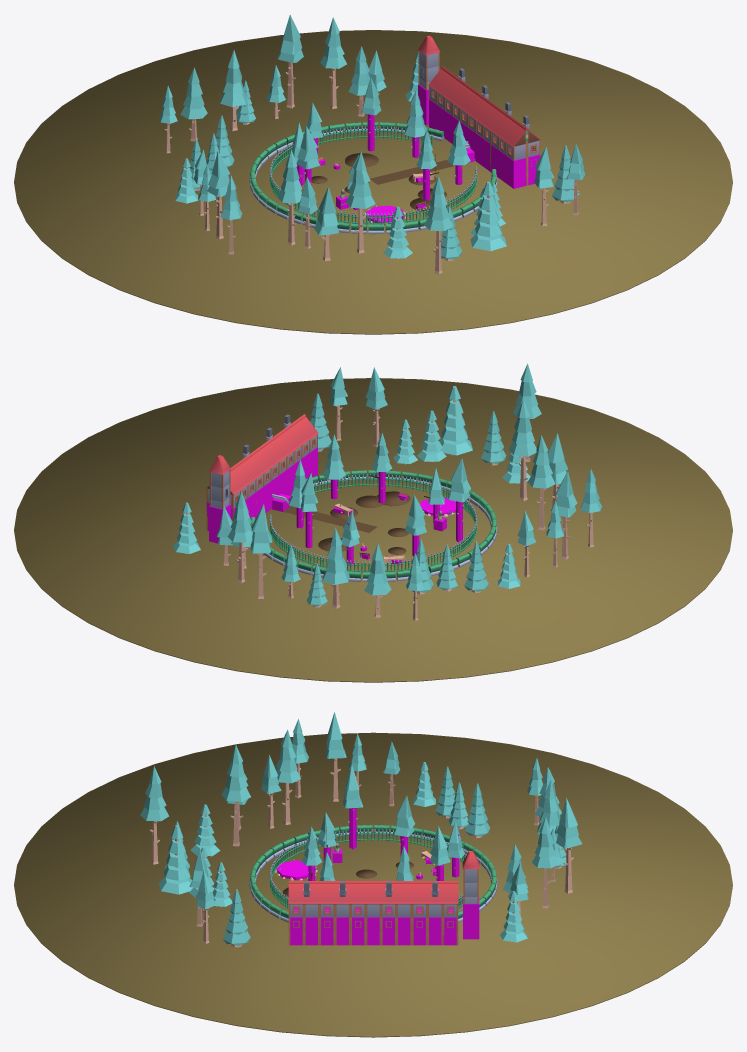
Rendered from orfanato.glb.
The picture shows the model from 3 angles, top to bottom: view 1: azimuth 30°, elevation 25°; view 2: azimuth 150°, elevation 25°; view 3: azimuth 270°, elevation 25°; orthographic projection.
Visible parts, largest first — view 1: GROUND_grass, OCC_KEN_house_manor, static_colormap_town, COL_box_manor, static_colormap_graveyard, KEN_tree_pineRoundA_240, KEN_tree_pineTallD_detailed_267, KEN_tree_pineTallD_detailed_269, KEN_tree_pineTallD_detailed_264, KEN_tree_pineTallB_detailed_250, KEN_tree_pineTallC_detailed_253, KEN_tree_pineTallD_detailed_249 (+19 smaller); view 2: GROUND_grass, OCC_KEN_house_manor, static_colormap_town, static_colormap_graveyard, COL_box_manor, KEN_tree_pineRoundA_240, KEN_tree_pineTallD_detailed_267, KEN_tree_pineTallD_detailed_264, KEN_tree_pineTallC_detailed_253, OCC_KEN_tower_orfanato, KEN_tree_pineTallD_detailed_249, KEN_tree_pineTallB_detailed_250 (+23 smaller); view 3: GROUND_grass, OCC_KEN_house_manor, COL_box_manor, static_colormap_town, static_colormap_graveyard, KEN_tree_pineRoundA_240, KEN_tree_pineTallD_detailed_267, KEN_tree_pineTallD_detailed_269, KEN_tree_pineTallB_detailed_250, KEN_tree_pineTallD_detailed_264, KEN_tree_pineTallD_detailed_249, KEN_tree_pineRoundC_245 (+16 smaller).
Part boxes in pixels (x1,y1,x2,y2): GROUND_grass: (14,30,732,334); OCC_KEN_house_manor: (428,66,540,185); static_colormap_town: (249,68,529,234); COL_box_manor: (429,98,540,188); static_colormap_graveyard: (269,126,477,225); KEN_tree_pineRoundA_240: (470,181,506,251); KEN_tree_pineTallD_detailed_267: (346,151,375,253); KEN_tree_pineTallD_detailed_269: (424,176,452,274); KEN_tree_pineTallD_detailed_264: (277,149,301,245); KEN_tree_pineTallB_detailed_250: (277,14,303,108); KEN_tree_pineTallC_detailed_253: (220,50,247,131); KEN_tree_pineTallD_detailed_249: (320,17,346,109); GROUND_grass: (14,378,732,682); OCC_KEN_house_manor: (206,414,318,530); static_colormap_town: (243,414,497,582); static_colormap_graveyard: (269,474,477,573); COL_box_manor: (206,446,317,530); KEN_tree_pineRoundA_240: (439,386,472,455); KEN_tree_pineTallD_detailed_267: (508,399,536,501); KEN_tree_pineTallD_detailed_264: (528,435,555,530); KEN_tree_pineTallC_detailed_253: (322,528,349,608); OCC_KEN_tower_orfanato: (209,455,230,509); KEN_tree_pineTallD_detailed_249: (227,491,252,583); KEN_tree_pineTallB_detailed_250: (250,504,272,598); GROUND_grass: (14,732,732,1037); OCC_KEN_house_manor: (288,881,458,945); COL_box_manor: (290,907,456,945); static_colormap_town: (249,825,497,922); static_colormap_graveyard: (269,829,466,908); KEN_tree_pineRoundA_240: (159,825,193,894); KEN_tree_pineTallD_detailed_267: (221,744,250,846); KEN_tree_pineTallD_detailed_269: (140,766,168,864); KEN_tree_pineTallB_detailed_250: (556,797,582,893); KEN_tree_pineTallD_detailed_264: (276,729,300,824); KEN_tree_pineTallD_detailed_249: (532,817,558,908); KEN_tree_pineRoundC_245: (223,889,250,947).
Size of the model in its own units: 140 by 29.18 by 140.
17 materials, 2 textured.
